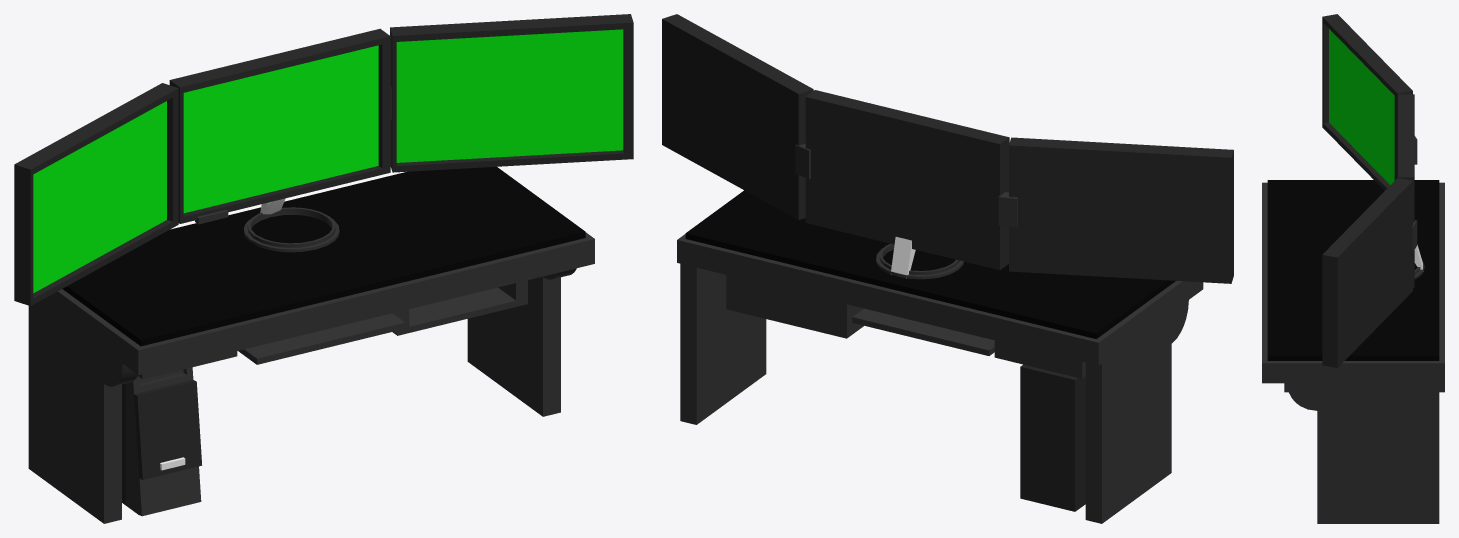
Rendered from setup.glb.
3 views of the same model, side by side, from view 1: azimuth 30°, elevation 25°; view 2: azimuth 150°, elevation 25°; view 3: azimuth 270°, elevation 25° (orthographic). The views are drawn at different scales.
Parts seen in each view (by area): view 1: Object_6, Object_8, Object_4, Object_9, Object_7; view 2: Object_9, Object_8, Object_4, Object_7, Object_5; view 3: Object_8, Object_4, Object_9, Object_6.
Part boxes in pixels (left/top/right/bottom): Object_6: left=33, top=29, right=623, bottom=293; Object_8: left=28, top=86, right=594, bottom=523; Object_4: left=62, top=166, right=585, bottom=346; Object_9: left=14, top=14, right=633, bottom=306; Object_7: left=122, top=380, right=202, bottom=504; Object_9: left=662, top=14, right=1233, bottom=283; Object_8: left=677, top=143, right=1203, bottom=523; Object_4: left=685, top=190, right=1175, bottom=338; Object_7: left=1020, top=364, right=1085, bottom=511; Object_5: left=891, top=236, right=915, bottom=278; Object_8: left=1262, top=136, right=1444, bottom=523; Object_4: left=1267, top=180, right=1439, bottom=360; Object_9: left=1322, top=14, right=1414, bottom=367; Object_6: left=1329, top=29, right=1394, bottom=184.
Bounding box in the file's own units: 20.79 × 11.91 × 6.6.
